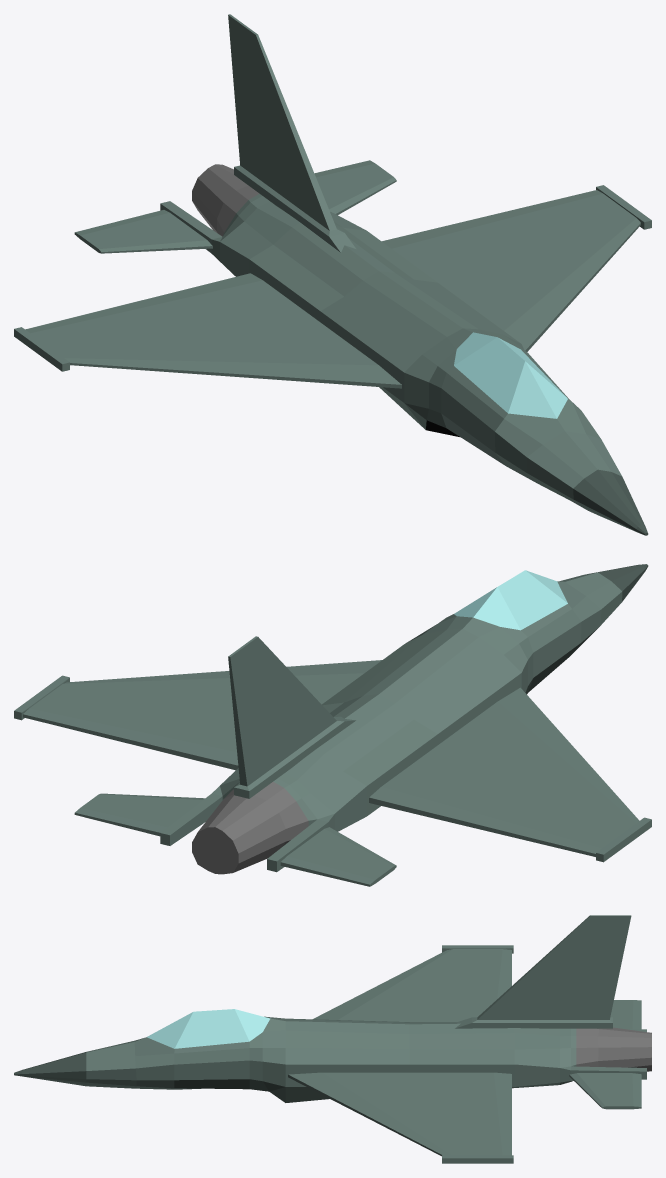
The model's file is modular_Basic_jet.fbx.
The picture shows the model from 3 angles, top to bottom: view 1: azimuth 30°, elevation 25°; view 2: azimuth 150°, elevation 25°; view 3: azimuth 270°, elevation 25°; orthographic projection. The views are drawn at different scales.
Parts seen in each view (by area): view 1: Body_Mesh, Wings_Mesh, Rudder_Mesh, Elevator_R, Thruster_Mesh, Elevator_L; view 2: Wings_Mesh, Body_Mesh, Rudder_Mesh, Thruster_Mesh, Elevator_R, Elevator_L; view 3: Body_Mesh, Wings_Mesh, Rudder_Mesh, Thruster_Mesh, Elevator_L, Elevator_R.
Boxes of the visible parts, box(x1,y1,x2,y2) form: Body_Mesh: box(160, 193, 648, 535); Wings_Mesh: box(14, 185, 651, 388); Rudder_Mesh: box(228, 14, 355, 252); Elevator_R: box(74, 210, 212, 253); Thruster_Mesh: box(192, 164, 259, 236); Elevator_L: box(314, 160, 396, 214); Wings_Mesh: box(14, 660, 651, 862); Body_Mesh: box(160, 564, 648, 872); Rudder_Mesh: box(228, 636, 355, 798); Thruster_Mesh: box(192, 782, 308, 874); Elevator_R: box(280, 827, 396, 886); Elevator_L: box(74, 793, 204, 836); Body_Mesh: box(14, 1009, 646, 1102); Wings_Mesh: box(288, 945, 513, 1163); Rudder_Mesh: box(455, 915, 631, 1028); Thruster_Mesh: box(576, 1027, 651, 1071); Elevator_L: box(569, 1073, 641, 1109); Elevator_R: box(610, 1000, 641, 1029).
Bounding box in the file's own units: 220 × 89.91 × 279.
